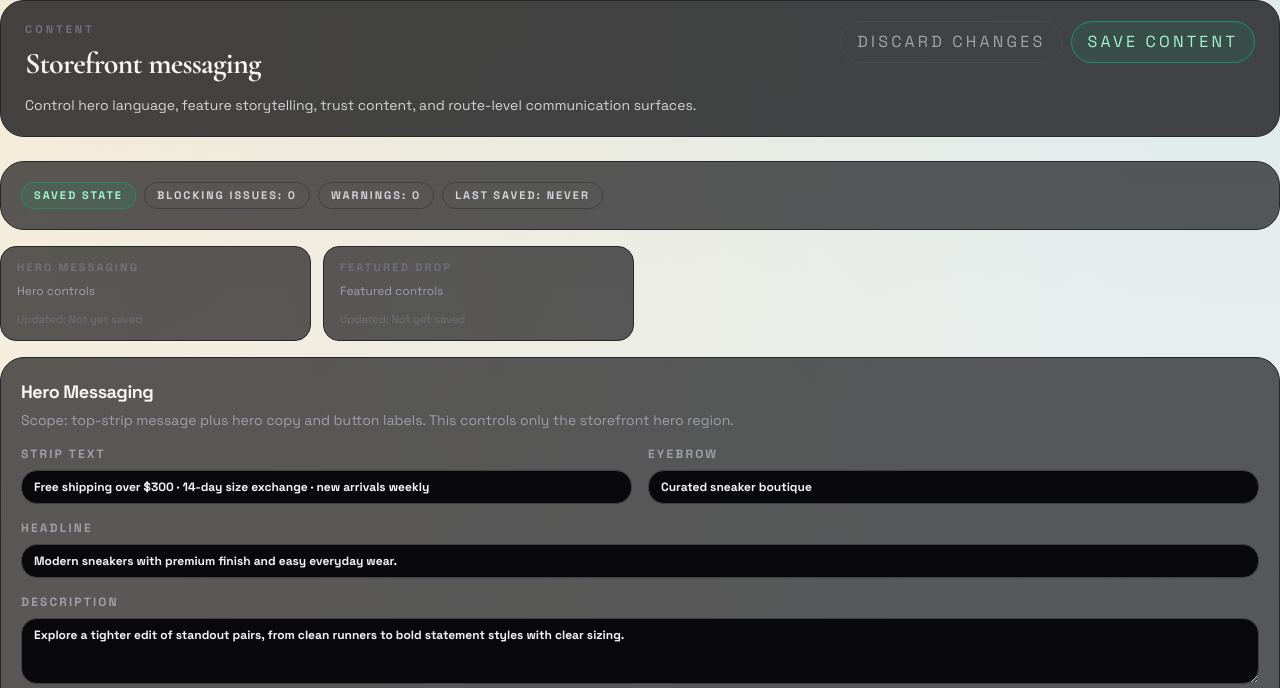
AdminContentPage › refreshes featured product publish state at save time and surfaces warning from current catalog truth
Click the button "Save content" at (1163, 42), box [1070,21,1255,63]
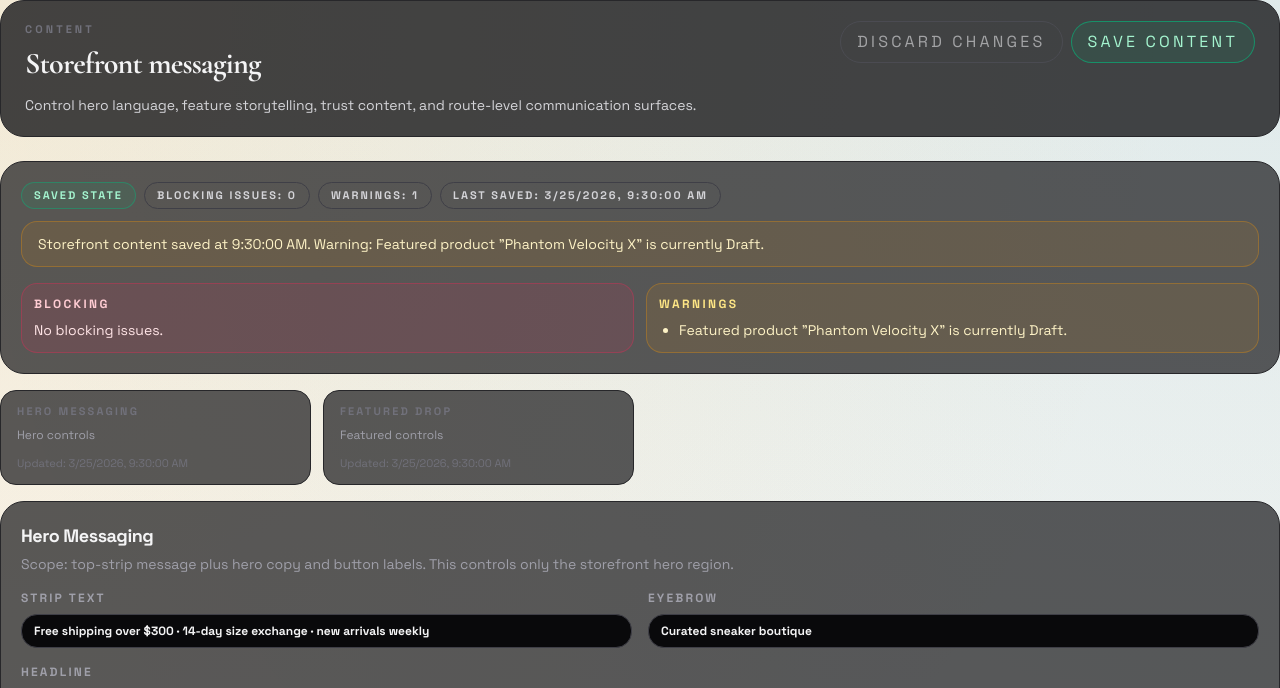
Expected: the text "warning: featured product \"phantom velocity x\" is currently draft." is shown, [38,235,764,253]
